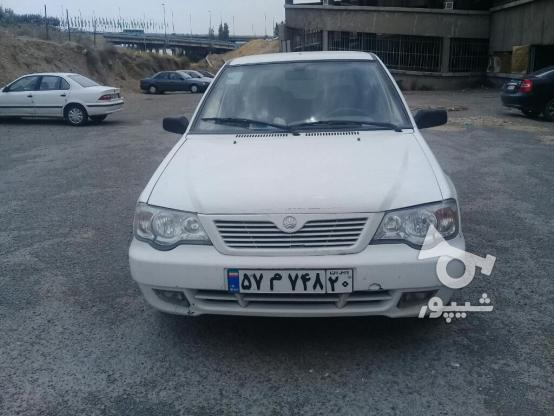car: (223, 264, 355, 297)
